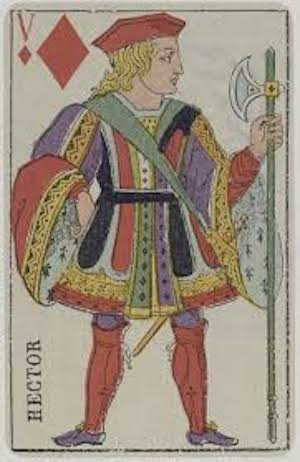JackOfDiamonds: (1, 8, 300, 457)
